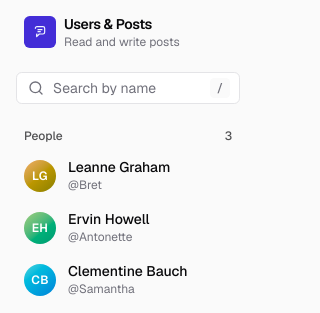
Test: AppSidebar search › treats regex characters in the term literally
Expected: the link "LG Leanne Graham @Bret" is shown, x1=24 y1=158 x2=170 y2=193
Type ".*" into the search field at (128,88), box x1=16 y1=72 x2=240 y2=104
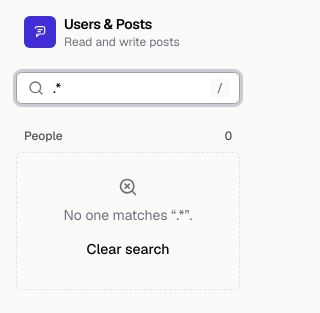
Now the text "No one matches “.*”." is shown, box x1=64 y1=205 x2=192 y2=225
